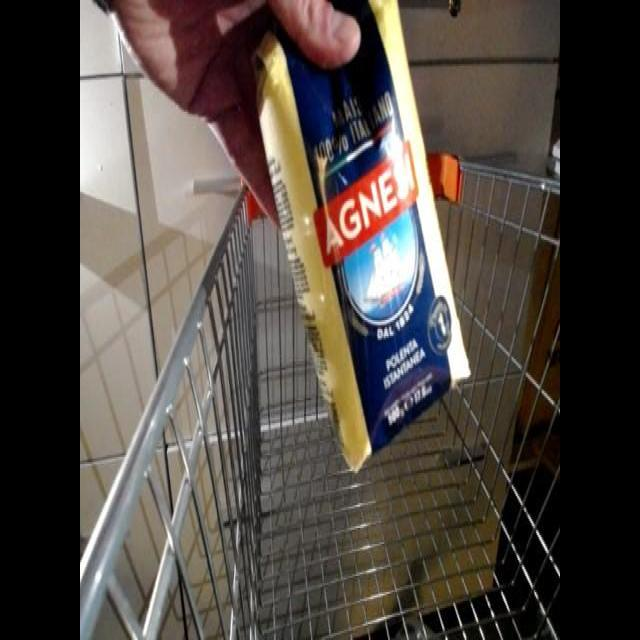Agnesi Polenta: (255, 0, 457, 475)
